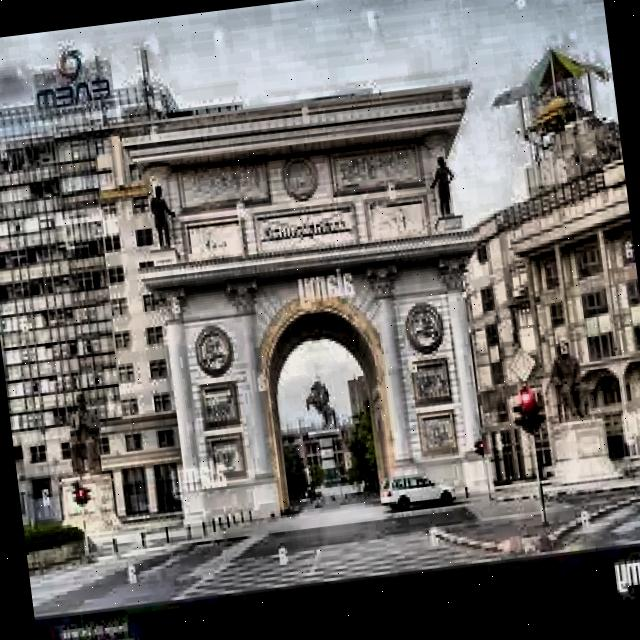triumphal arch: (120, 86, 520, 533)
